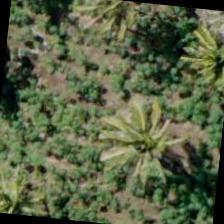Kelapa_Sawit: (100, 95, 198, 194), (71, 0, 167, 55), (175, 8, 223, 104), (0, 159, 55, 219)
